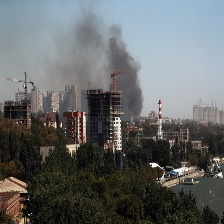smoke: (48, 19, 144, 120)
